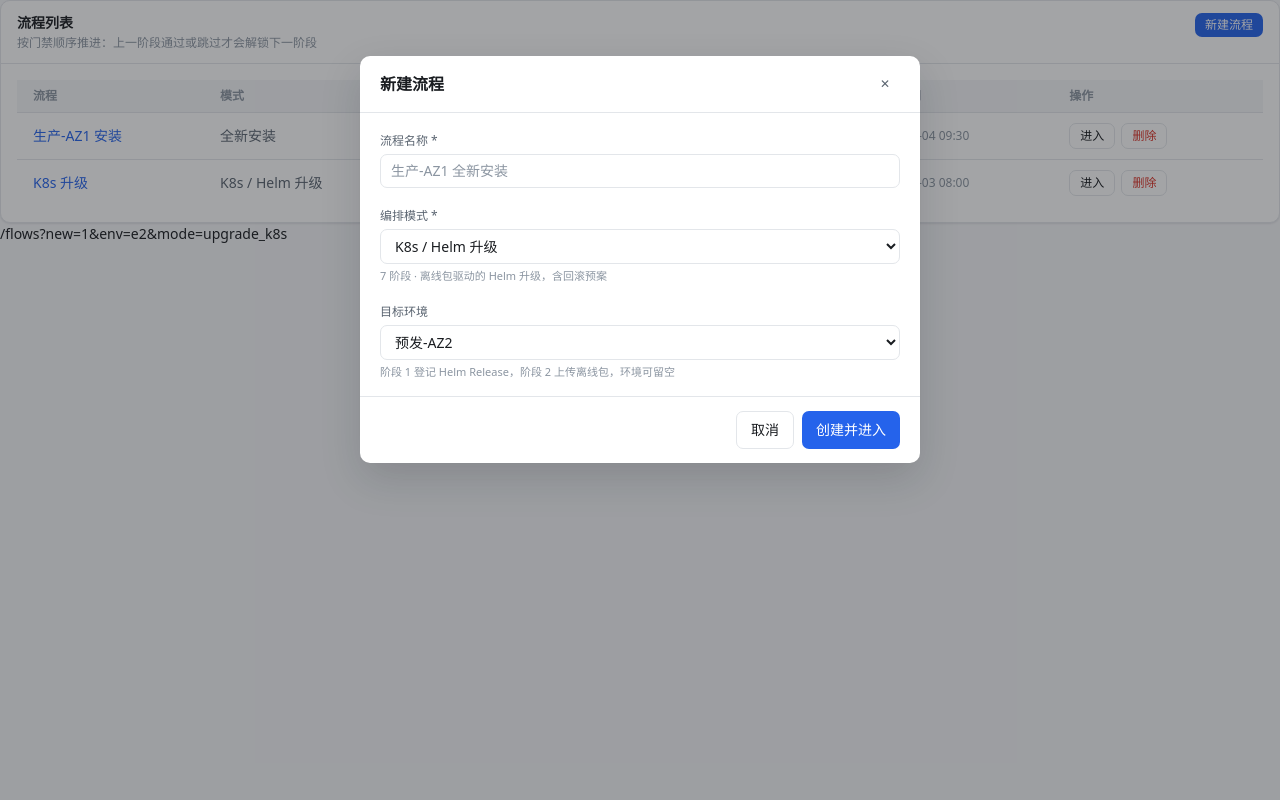
Scenario: Flows 新建入口 › ?new=1&env=&mode= 打开并预填；取消后三个参数一起清掉
Check: the dropdown labelled "编排模式 * 7 阶段 · 离线包驱动的 Helm 升级，含回滚预案" shows "K8s / Helm 升级", box [380,229,900,264]
Check: the dropdown labelled "目标环境 阶段 1 登记 Helm Release，阶段 2 上传离线包，环境可留空" shows "预发-AZ2", box [380,325,900,360]
Click the button "取消" at (765, 430), box [736,411,794,449]
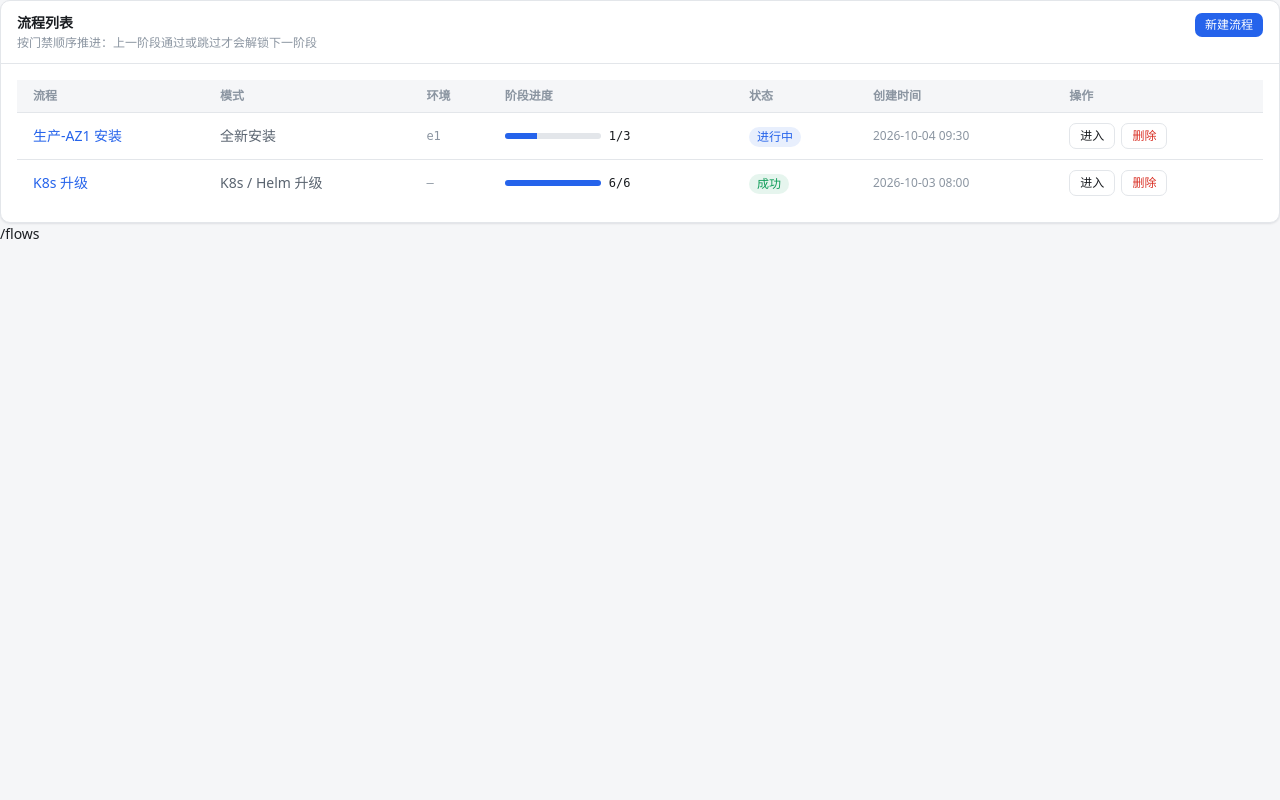
Check: the dialog is gone
Check: the text with test id "location" reads "/flows", box [0,224,40,243]
